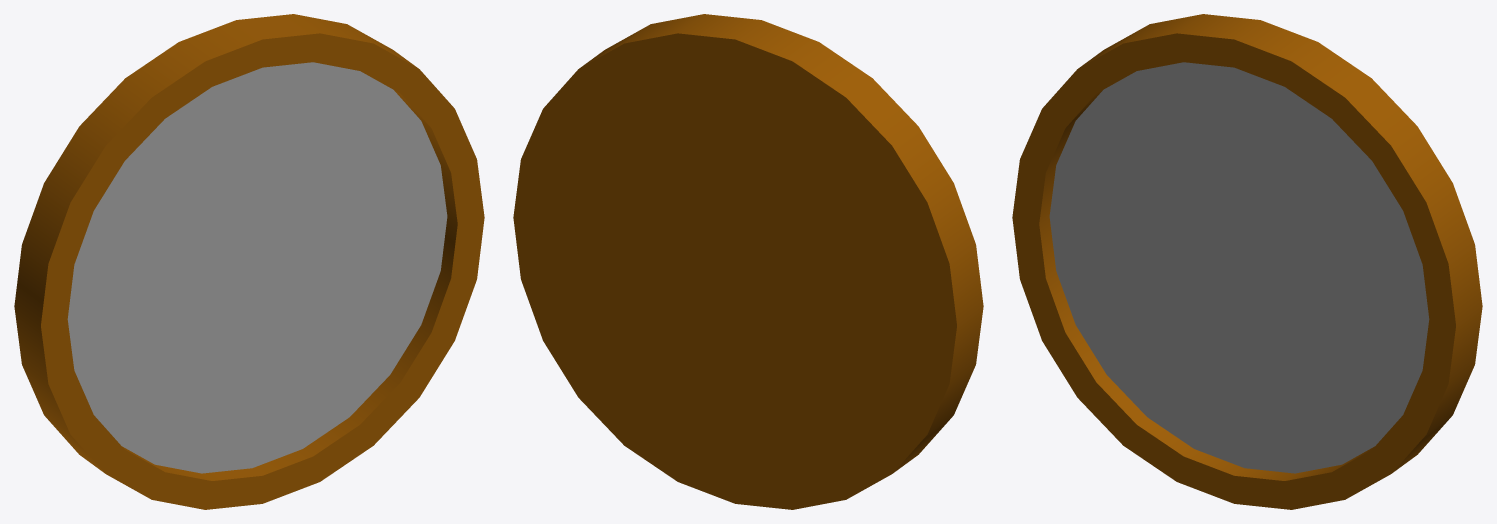
File: SM_Clock.fbx
The picture shows the model from 3 angles, left to right: view 1: azimuth 30°, elevation 25°; view 2: azimuth 150°, elevation 25°; view 3: azimuth 330°, elevation 25°; orthographic projection.
Visible parts, largest first — view 1: SM_Clock; view 2: SM_Clock; view 3: SM_Clock.
Boxes of the visible parts, x1,y1,x2,y2 form: SM_Clock: (14, 14, 484, 509); SM_Clock: (513, 14, 983, 509); SM_Clock: (1012, 14, 1482, 509).
Size of the model in its own units: 35 by 35 by 3.62.
